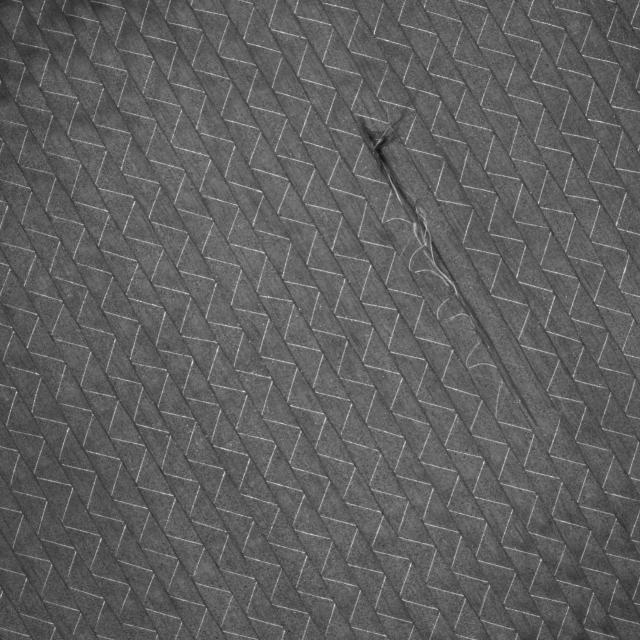carbon-fibre-defect: (325, 98, 531, 400)
